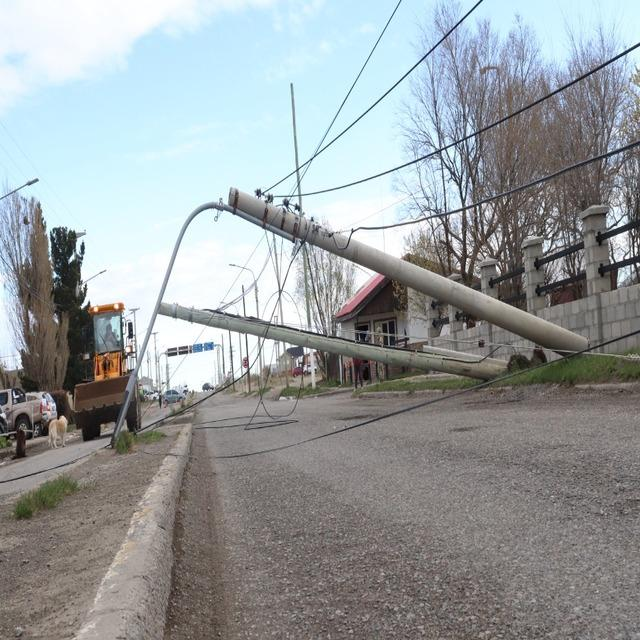Inclined Pole: (103, 188, 599, 455)
